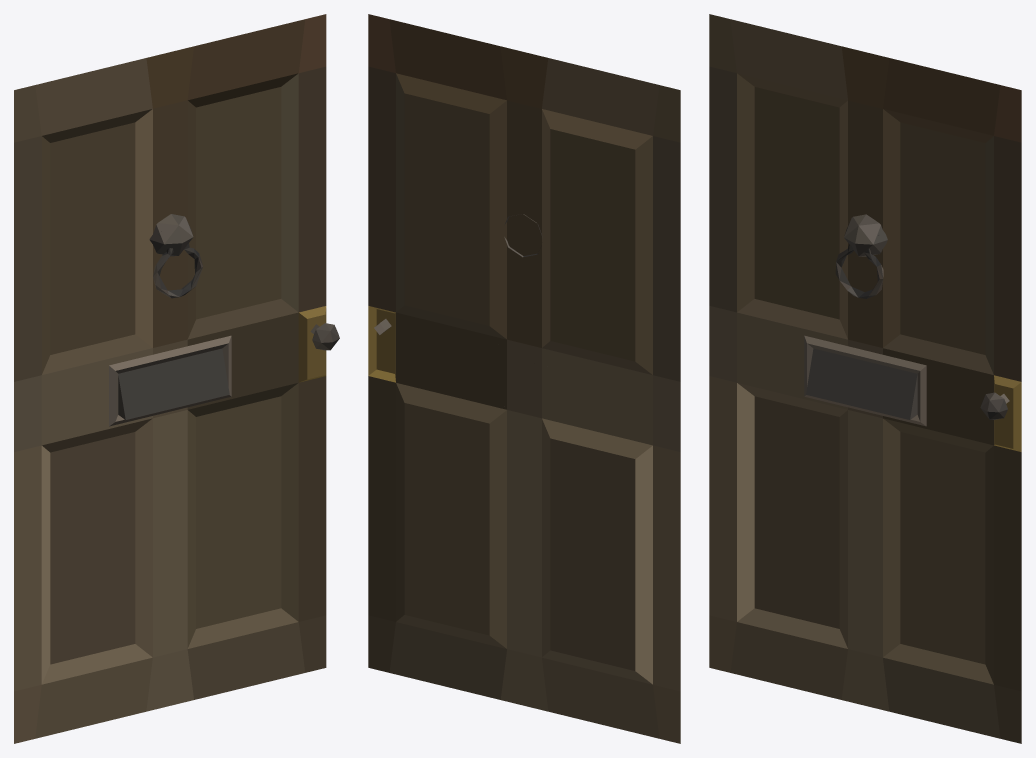
Rendered from DoorD.fbx.
3 renders of one model, left to right at view 1: azimuth 30°, elevation 25°; view 2: azimuth 150°, elevation 25°; view 3: azimuth 330°, elevation 25°, orthographic.
Parts seen in each view (by area): view 1: DoorD; view 2: DoorD; view 3: DoorD.
Part boxes in pixels (x1,y1,x2,y2): DoorD: (14, 14, 339, 743); DoorD: (368, 14, 680, 743); DoorD: (709, 14, 1021, 743).
Bounding box in the file's own units: 120 × 240 × 16.53.
